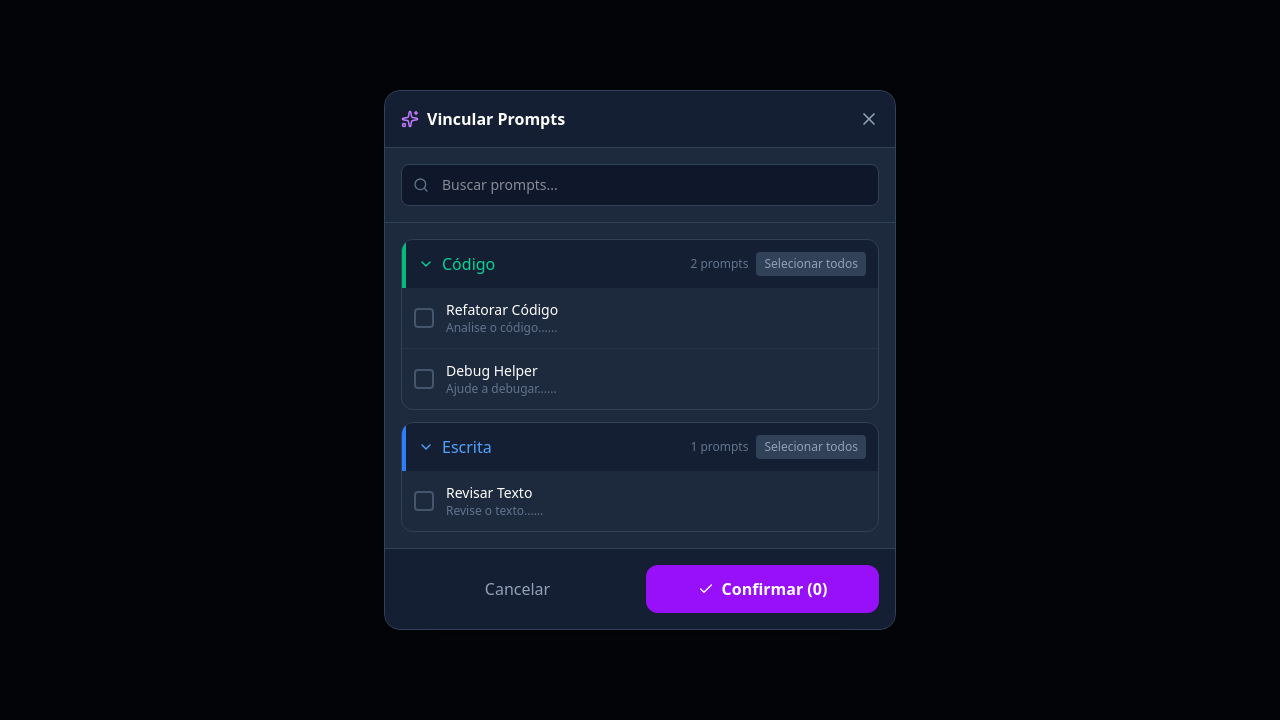
Scenario: MultiPromptSelector › Empty state › shows empty message when no prompts match search
The width and height of the screenshot is (1280, 720).
Type "xyz123nonexistent" into the field with placeholder "Buscar prompts..." at (640, 185), box [401,164,879,206]
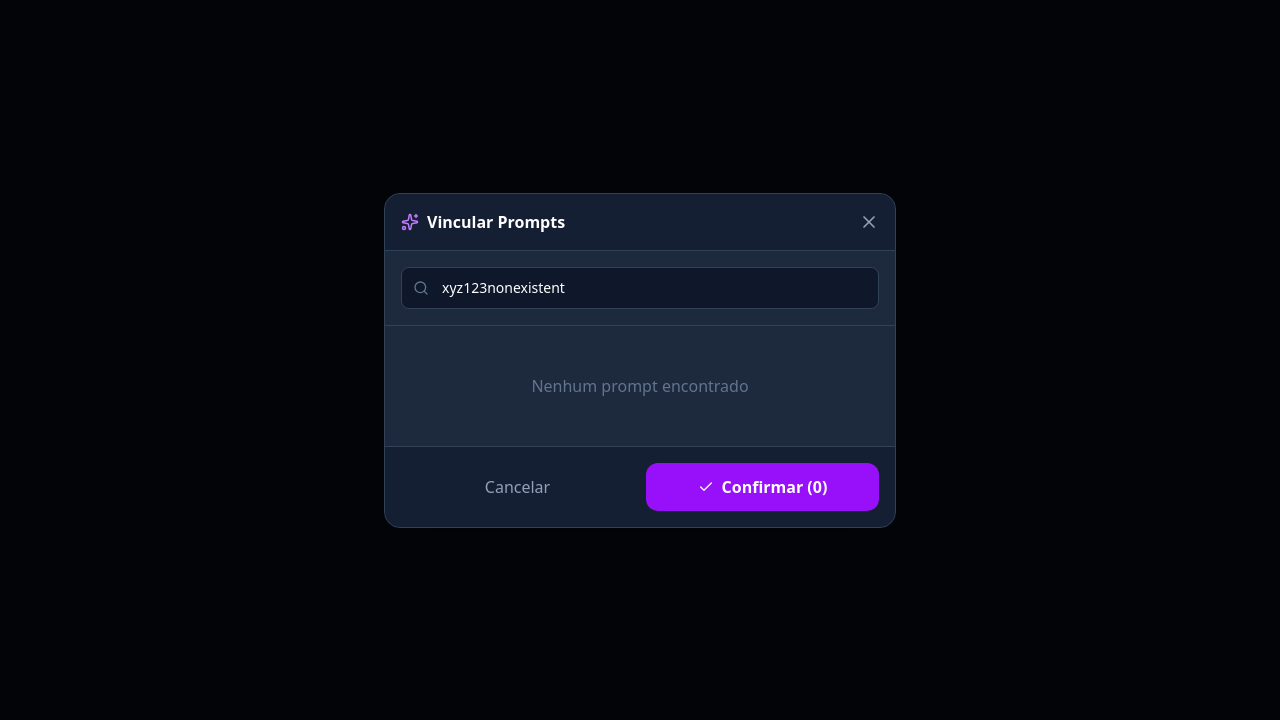
Result: the text "Nenhum prompt encontrado" is shown at [531,374,749,396]
